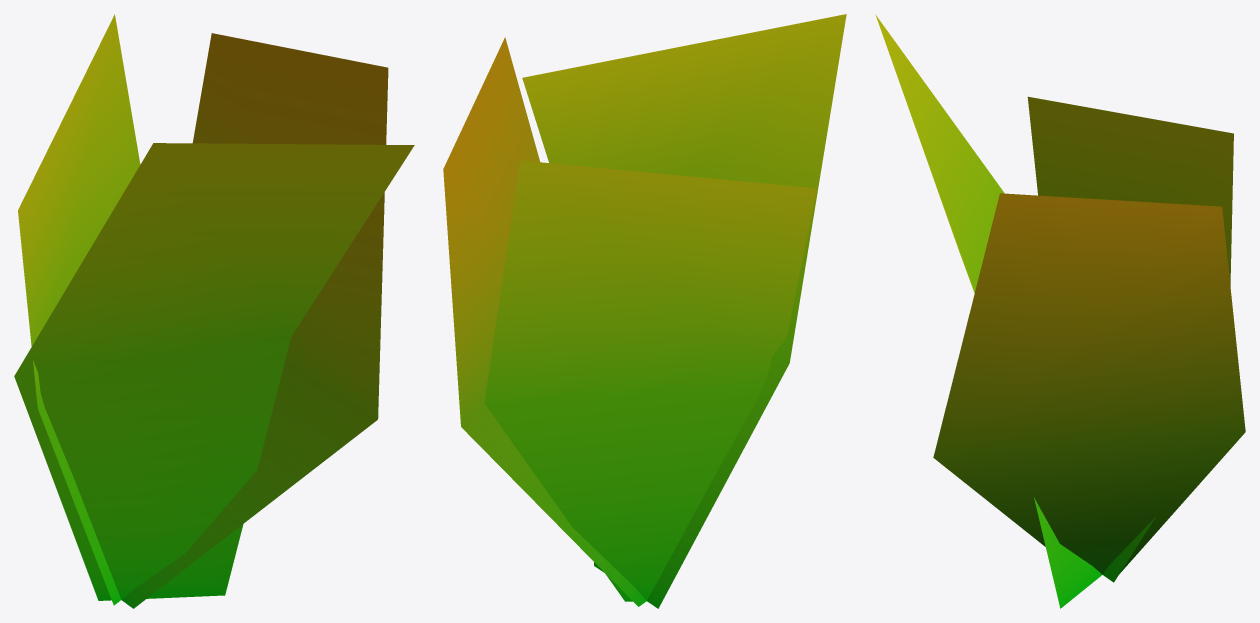
The model's file is Ocean Seaweed_LOD1_Var3_sdDgS.fbx.
The picture shows the model from 3 angles, left to right: view 1: azimuth 30°, elevation 25°; view 2: azimuth 150°, elevation 25°; view 3: azimuth 270°, elevation 25°; orthographic projection. The views are drawn at different scales.
Visible parts, largest first — view 1: merge1; view 2: merge1; view 3: merge1.
Part boxes in pixels (x1,y1,x2,y2): merge1: [14, 14, 414, 608]; merge1: [443, 14, 846, 608]; merge1: [875, 14, 1245, 608].
Size of the model in its own units: 25.65 by 39 by 25.18.
